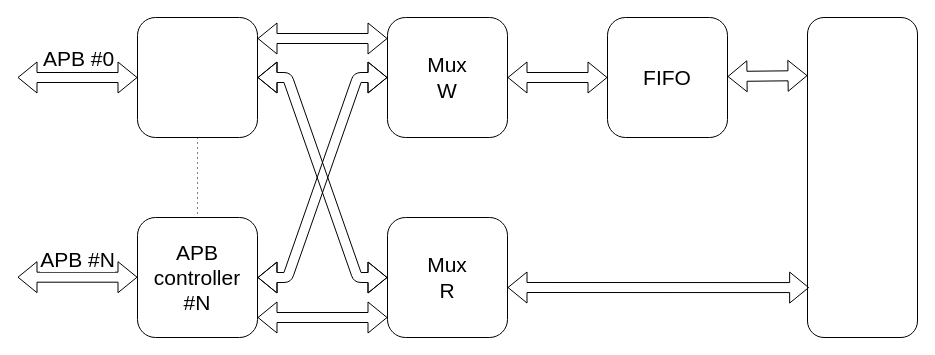
Some shapes in this 935 by 355 pixel diagram are drawn without their labels. Here are the shapes that lost their labels. From the top down, the centre of each, then its label:
point 197,77: APB controller #0
point 862,177: REG
